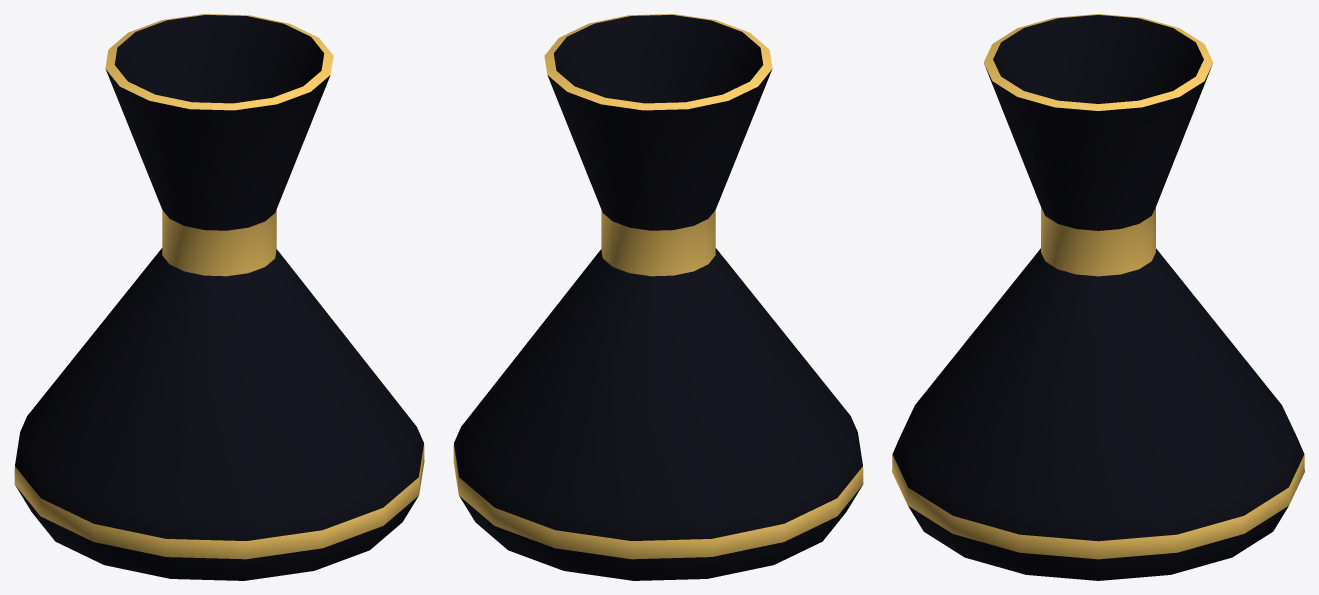
File: VasoPreto.fbx
3 renders of one model, left to right at view 1: azimuth 30°, elevation 25°; view 2: azimuth 150°, elevation 25°; view 3: azimuth 270°, elevation 25°, orthographic.
Visible parts, largest first — view 1: VasoPreto; view 2: VasoPreto; view 3: VasoPreto.
Part boxes in pixels (x1,y1,x2,y2): VasoPreto: (14, 14, 424, 580); VasoPreto: (453, 14, 863, 580); VasoPreto: (892, 14, 1304, 580).
Size of the model in its own units: 0.2423 by 0.286 by 0.2423.
